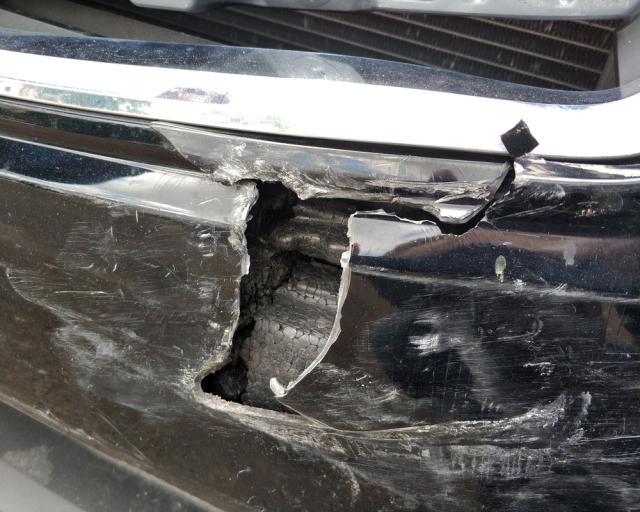crack: (149, 125, 518, 417)
scratch: (304, 276, 640, 512), (0, 173, 246, 413)
